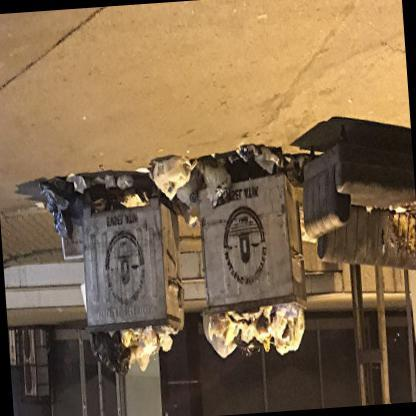Garbage: (200, 305, 312, 375), (83, 326, 190, 393), (42, 177, 82, 234), (43, 178, 76, 245), (153, 153, 194, 200), (272, 309, 308, 361), (205, 311, 241, 363), (94, 330, 134, 376), (132, 321, 156, 375), (200, 156, 228, 192), (179, 176, 196, 219), (102, 170, 136, 191), (160, 328, 176, 364), (240, 319, 259, 349), (68, 168, 88, 196), (258, 335, 272, 359)
